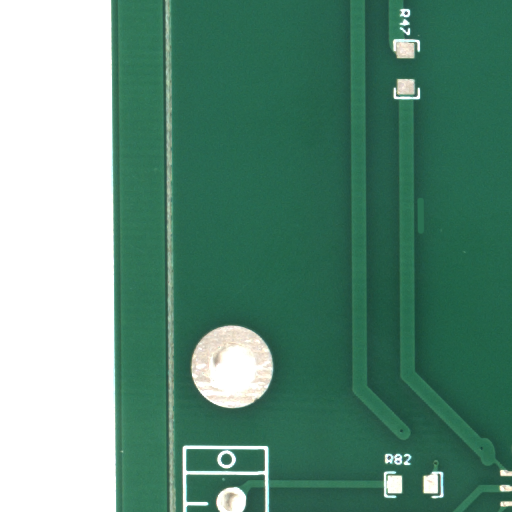Spurious_copper: (420, 215, 429, 254)
